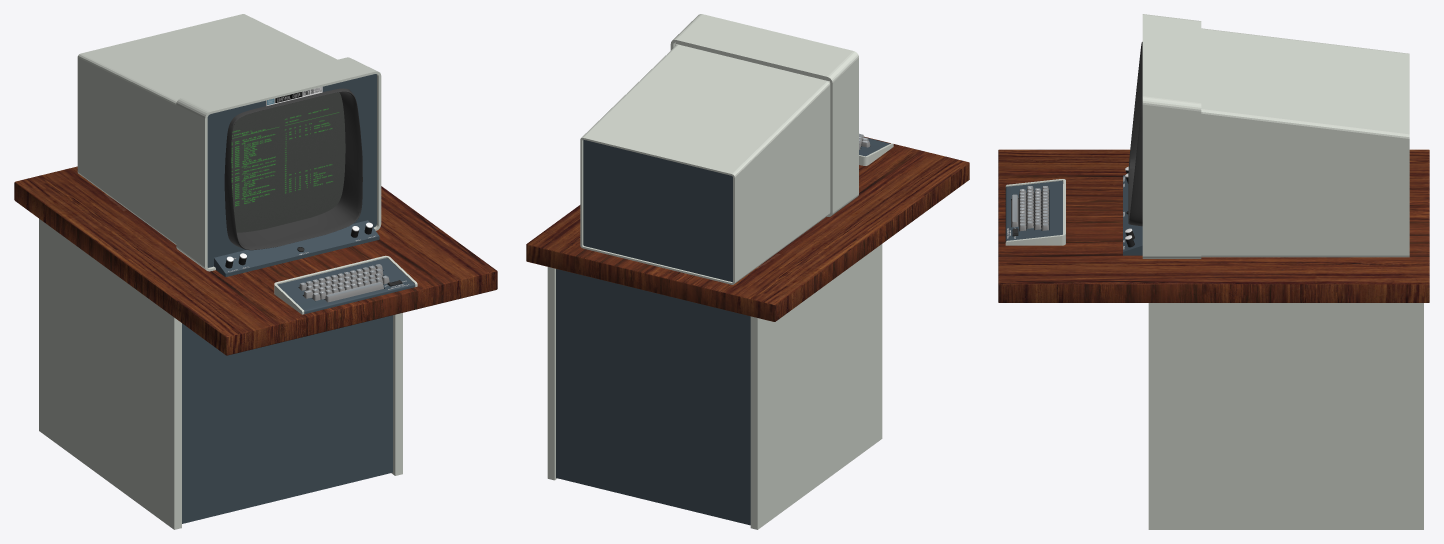
The model's file is a-opt-cc545.glb.
3 views of the same model, side by side, from view 1: azimuth 30°, elevation 25°; view 2: azimuth 150°, elevation 25°; view 3: azimuth 270°, elevation 25° (orthographic). The views are drawn at different scales.
Parts seen in each view (by area): view 1: cc545; view 2: cc545; view 3: cc545.
Part boxes in pixels (<box>): cc545: <box>14,14,497,529</box>; cc545: <box>526,14,969,529</box>; cc545: <box>998,14,1429,529</box>.
Bounding box in the file's own units: 0.8818 × 1.28 × 1.19.
Materials: 10 (10 with a texture image).
